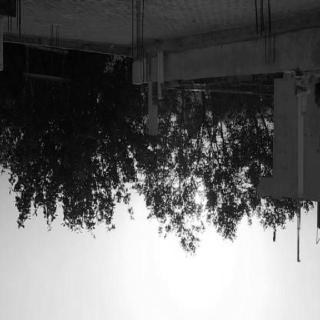other: (152, 171, 240, 291)
